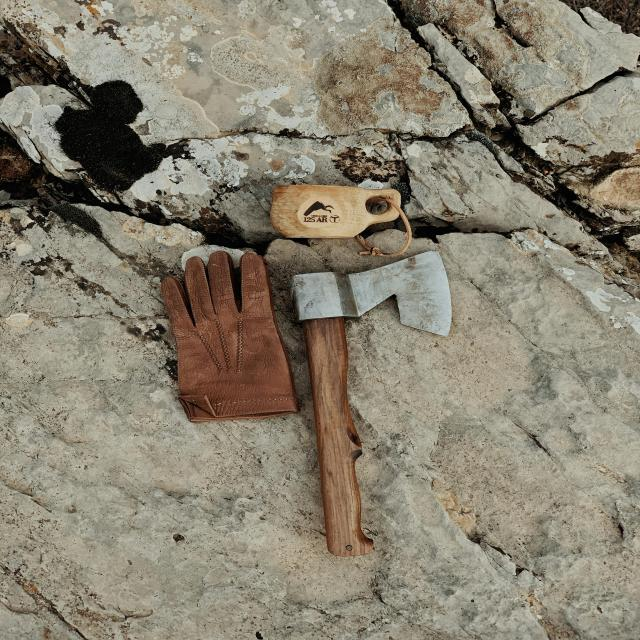Axe: (292, 251, 451, 556)
